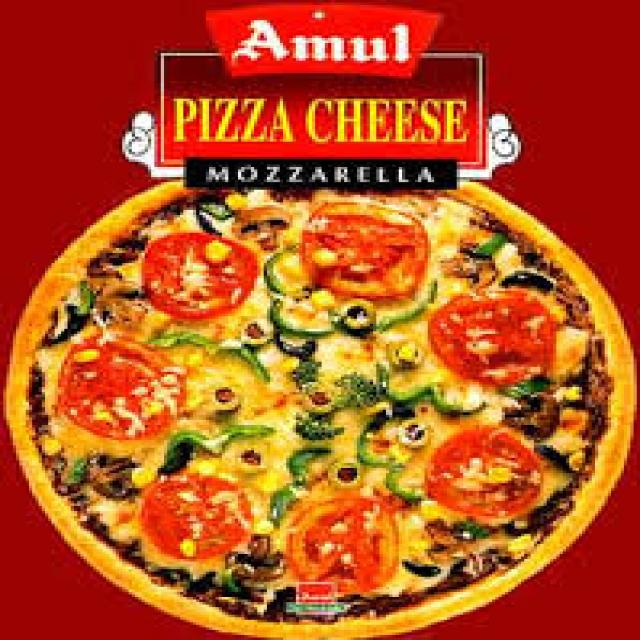피자: (21, 185, 620, 632)
